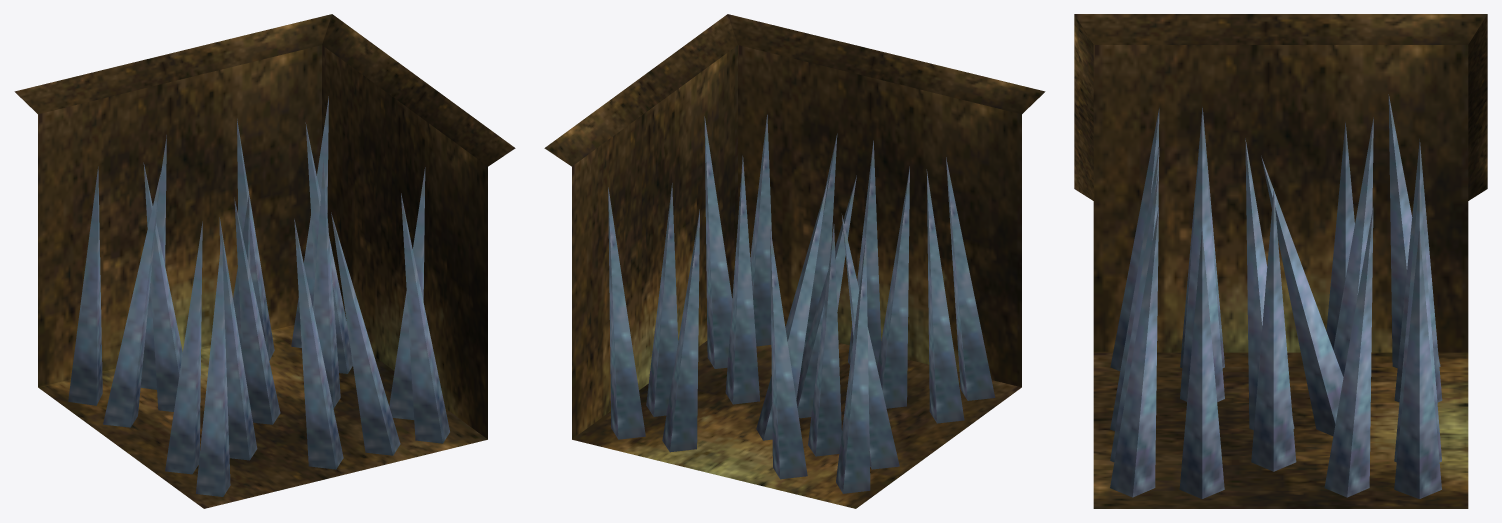
File: building_killing_pits.glb
3 renders of one model, left to right at view 1: azimuth 30°, elevation 25°; view 2: azimuth 150°, elevation 25°; view 3: azimuth 270°, elevation 25°, orthographic. The views are drawn at different scales.
Parts seen in each view (by area): view 1: building_killing_pits; view 2: building_killing_pits; view 3: building_killing_pits.
Part boxes in pixels (left/top/right/bottom): building_killing_pits: left=14, top=14, right=515, bottom=508; building_killing_pits: left=544, top=14, right=1045, bottom=508; building_killing_pits: left=1074, top=14, right=1487, bottom=508.
Size of the model in its own units: 4.1 by 3.73 by 4.1.
Materials: 1 (1 with a texture image).
